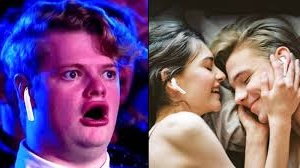earphone: (16, 74, 35, 122), (276, 46, 291, 77), (163, 68, 181, 92)
